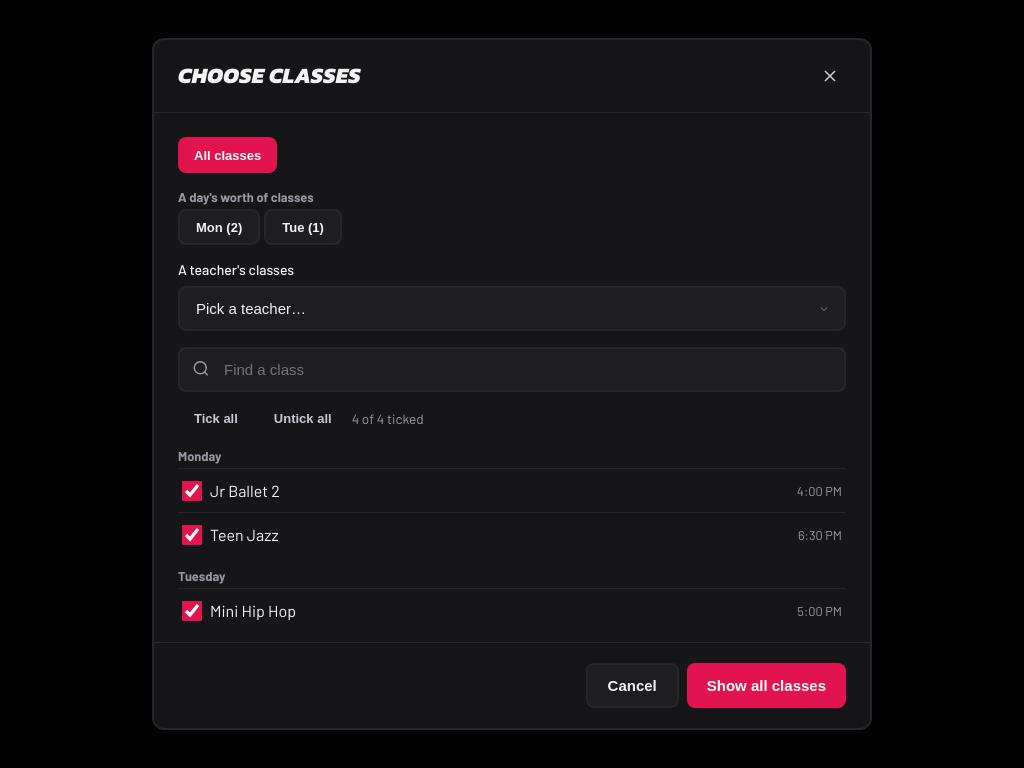
ClassPicker › will not apply an empty selection
Click the button "Untick all".
click(303, 418)  # box [258,400,348,436]
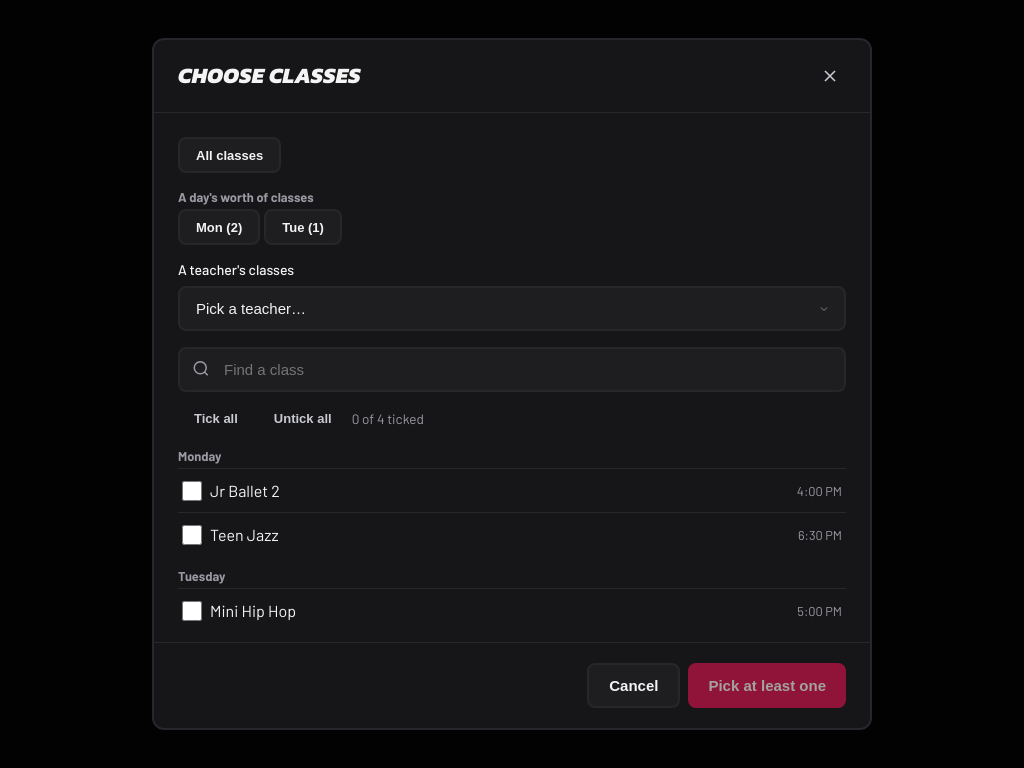
Check: the button "Pick at least one" is disabled, box [688,663,846,708]
